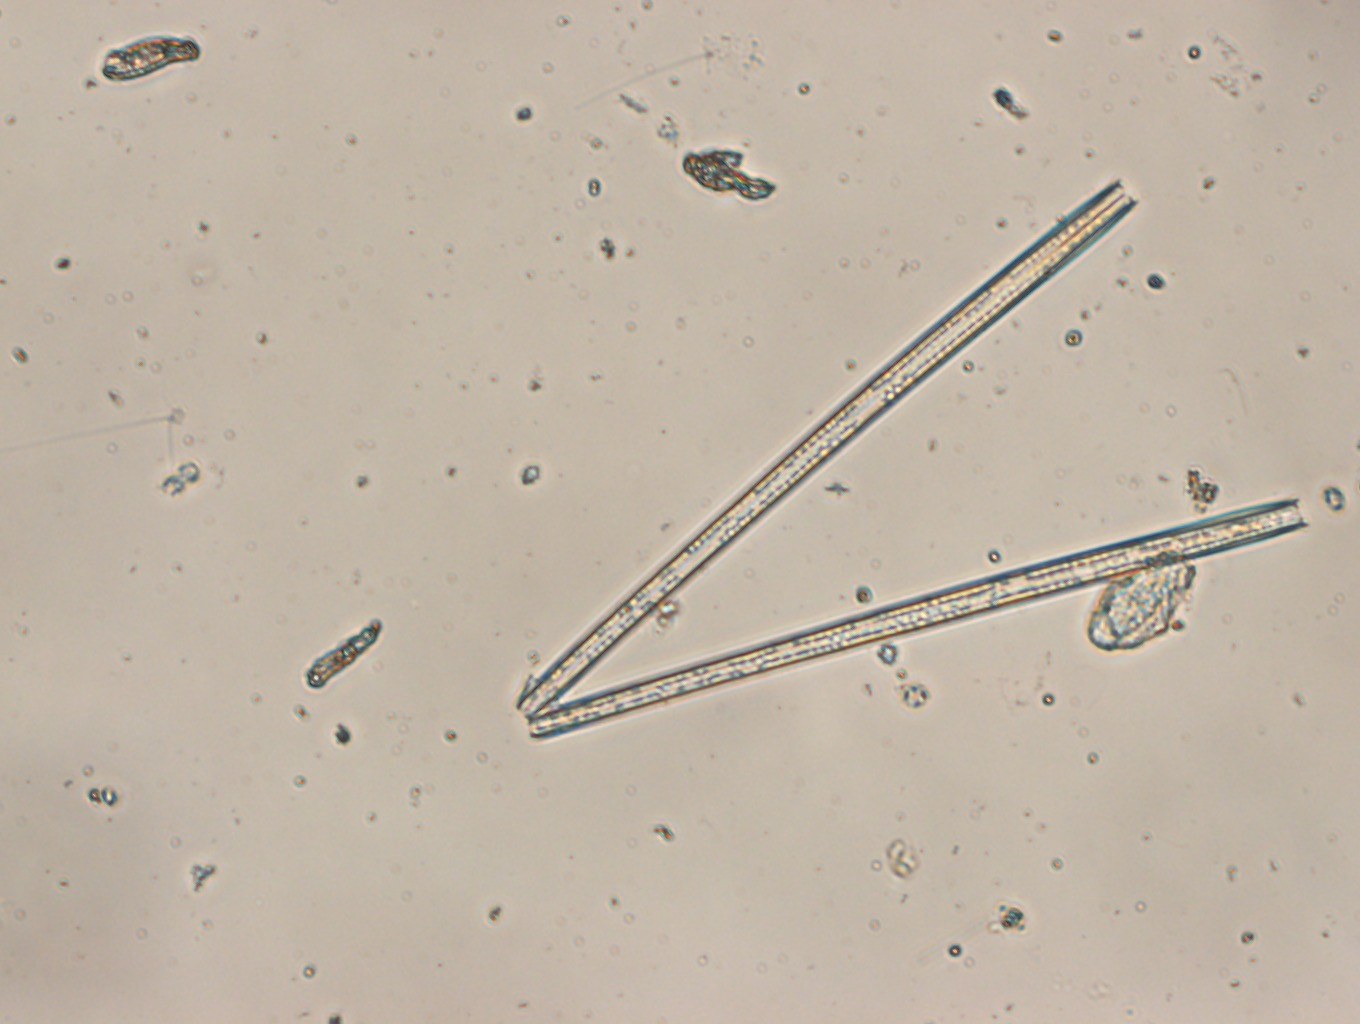thalassionema frauenfeldii: (515, 180, 1311, 741)
